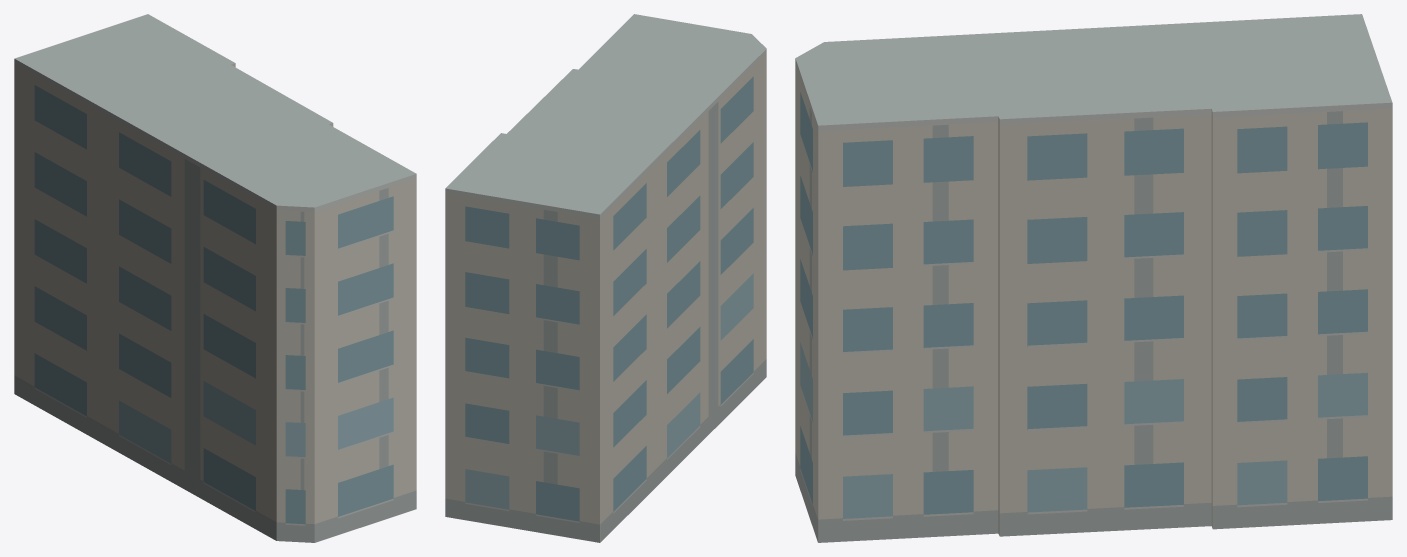
File: survey-upis-32987169.glb
The picture shows the model from 3 angles, left to right: view 1: azimuth 30°, elevation 25°; view 2: azimuth 150°, elevation 25°; view 3: azimuth 270°, elevation 25°; orthographic projection. The views are drawn at different scales.
Parts seen in each view (by area): view 1: survey-upis-32987169.tmp; view 2: survey-upis-32987169.tmp; view 3: survey-upis-32987169.tmp.
Boxes of the visible parts, x1,y1,x2,y2 form: survey-upis-32987169.tmp: [14, 14, 416, 542]; survey-upis-32987169.tmp: [445, 14, 766, 542]; survey-upis-32987169.tmp: [795, 14, 1392, 542].
Bounding box in the file's own units: 9.87 × 17.2 × 22.31.
